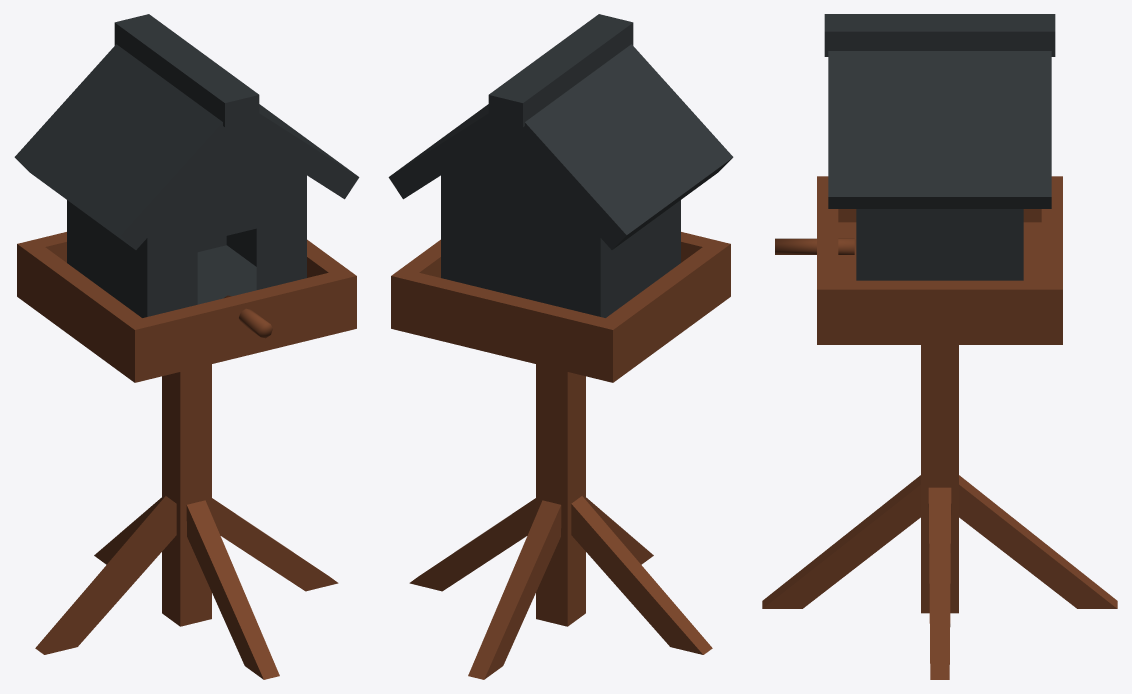
File: BirdHouse.glb
3 renders of one model, left to right at view 1: azimuth 30°, elevation 25°; view 2: azimuth 150°, elevation 25°; view 3: azimuth 270°, elevation 25°, orthographic. The views are drawn at different scales.
Visible parts, largest first — view 1: Birdhouse_Roof_Panels, Birdhouse_Cabin_Walls, Birdhouse_Upper_Platform, Birdhouse_Angled_Supports, Birdhouse_Center_Post, Birdhouse_Ridge_Cap, Birdhouse_Perch; view 2: Birdhouse_Roof_Panels, Birdhouse_Cabin_Walls, Birdhouse_Upper_Platform, Birdhouse_Angled_Supports, Birdhouse_Center_Post, Birdhouse_Ridge_Cap; view 3: Birdhouse_Roof_Panels, Birdhouse_Upper_Platform, Birdhouse_Angled_Supports, Birdhouse_Cabin_Walls, Birdhouse_Ridge_Cap, Birdhouse_Center_Post, Birdhouse_Perch.
Part boxes in pixels (left/top/right/bottom): Birdhouse_Roof_Panels: left=14, top=44, right=359, bottom=249; Birdhouse_Cabin_Walls: left=67, top=133, right=306, bottom=317; Birdhouse_Upper_Platform: left=17, top=232, right=356, bottom=382; Birdhouse_Angled_Supports: left=35, top=496, right=338, bottom=679; Birdhouse_Center_Post: left=162, top=364, right=211, bottom=626; Birdhouse_Ridge_Cap: left=114, top=14, right=259, bottom=127; Birdhouse_Perch: left=224, top=295, right=272, bottom=338; Birdhouse_Roof_Panels: left=388, top=44, right=733, bottom=249; Birdhouse_Cabin_Walls: left=441, top=133, right=680, bottom=317; Birdhouse_Upper_Platform: left=391, top=232, right=730, bottom=382; Birdhouse_Angled_Supports: left=409, top=496, right=712, bottom=679; Birdhouse_Center_Post: left=536, top=364, right=585, bottom=626; Birdhouse_Ridge_Cap: left=488, top=14, right=633, bottom=127; Birdhouse_Roof_Panels: left=828, top=51, right=1051, bottom=208; Birdhouse_Upper_Platform: left=817, top=176, right=1062, bottom=344; Birdhouse_Angled_Supports: left=762, top=475, right=1117, bottom=679; Birdhouse_Cabin_Walls: left=856, top=209, right=1023, bottom=280; Birdhouse_Ridge_Cap: left=824, top=14, right=1055, bottom=56; Birdhouse_Center_Post: left=921, top=345, right=958, bottom=613; Birdhouse_Perch: left=775, top=238, right=854, bottom=254.
Bounding box in the file's own units: 0.7003 × 1.27 × 0.7003.
